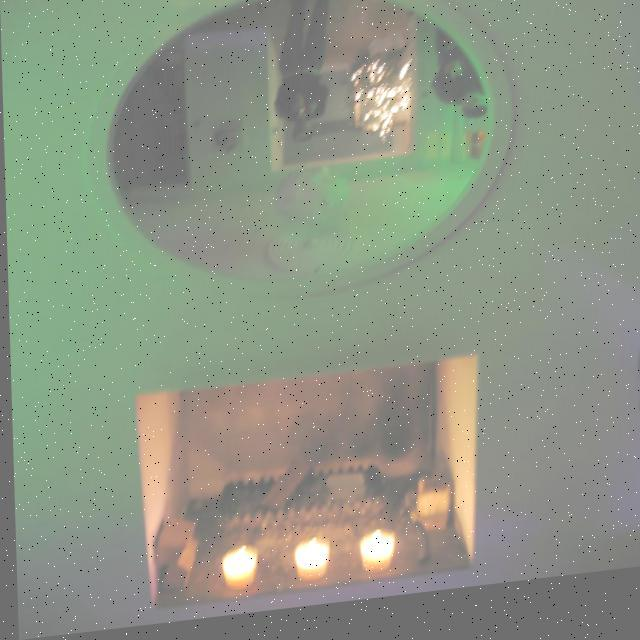Fire: (196, 514, 402, 608)
